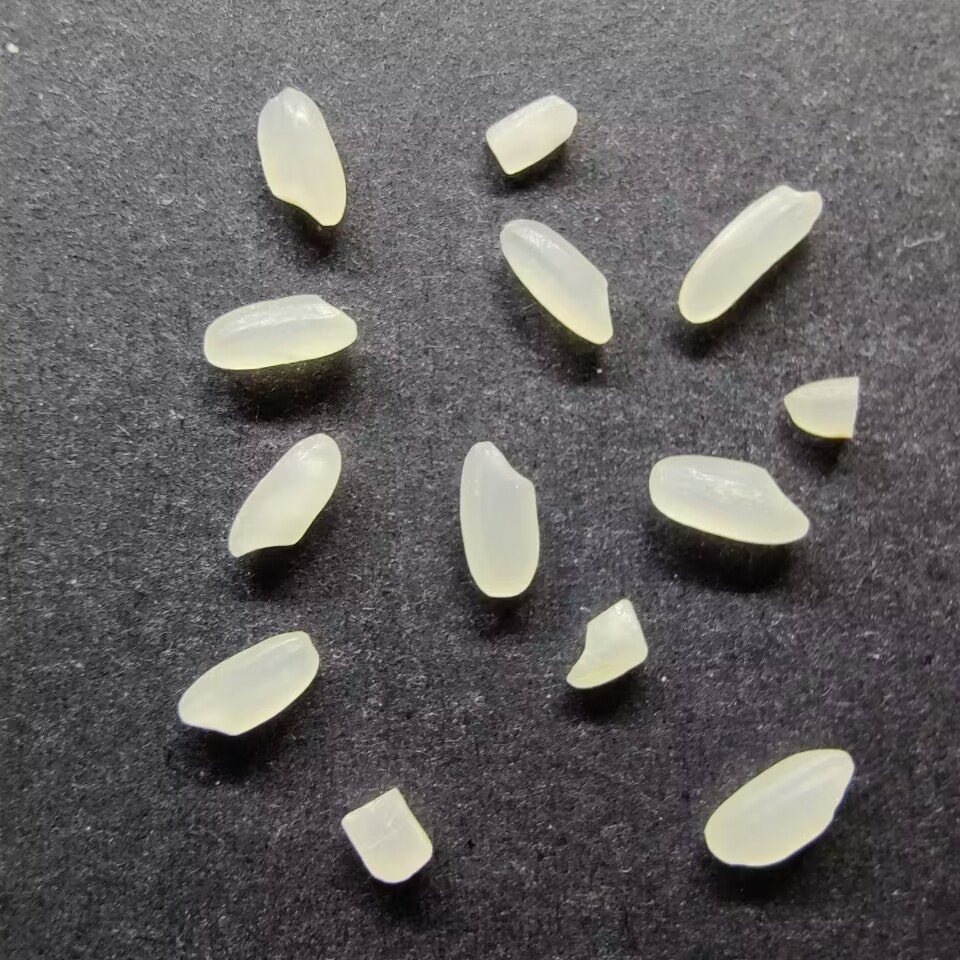broken: (338, 784, 435, 885), (564, 596, 651, 690), (482, 92, 578, 176), (781, 373, 862, 441)
rice: (675, 182, 823, 325), (702, 747, 856, 868), (175, 629, 319, 738), (647, 452, 811, 546), (225, 431, 342, 559), (498, 217, 614, 345), (457, 439, 541, 599), (255, 86, 347, 228), (200, 291, 360, 371)
